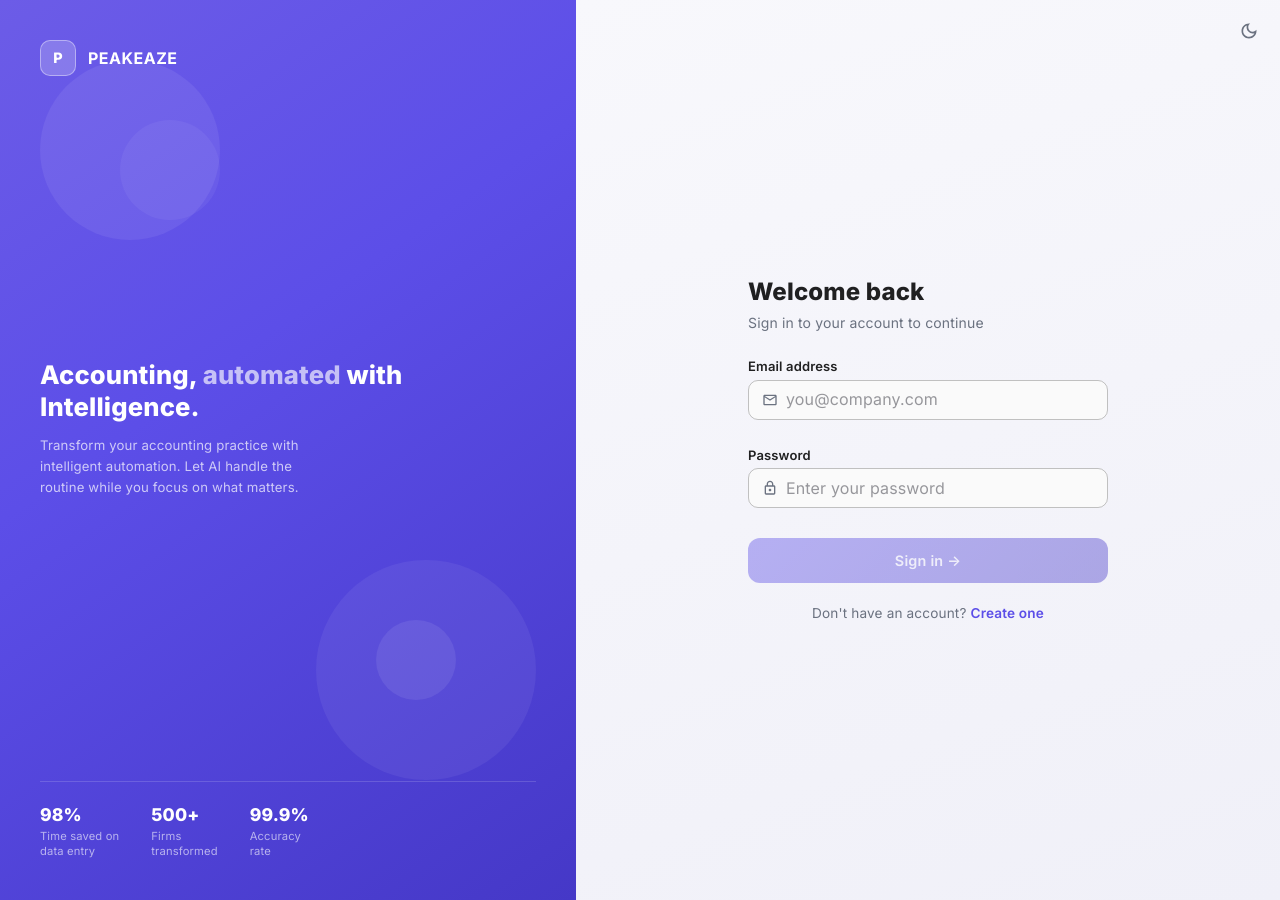
Test: LoginPage › shows email validation error when invalid email is typed
The width and height of the screenshot is (1280, 900).
Type "not-an-email" into the field with placeholder "you@company.com" at (947, 400), box [786,380,1108,420]
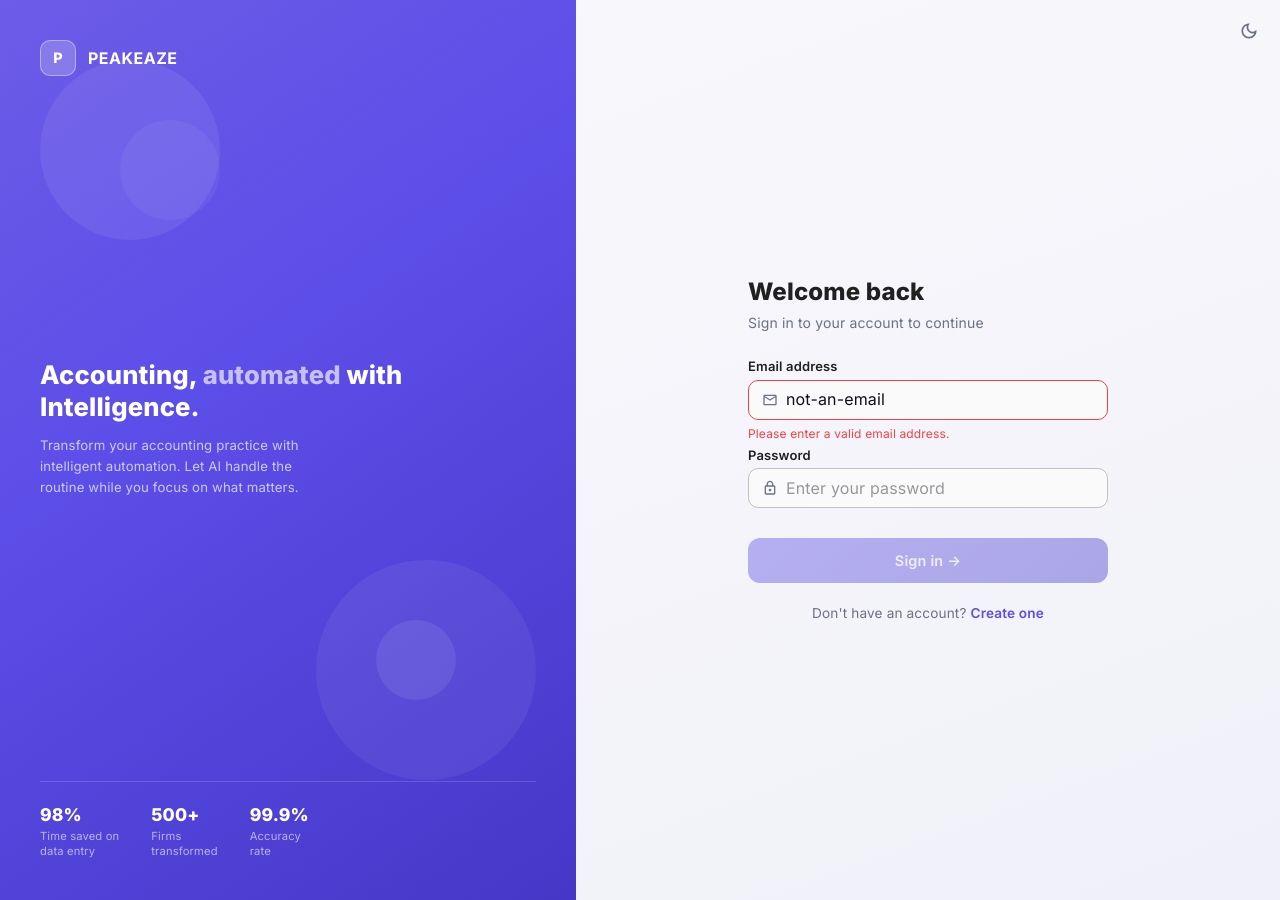
Now the text "Please enter a valid email address." is shown, box [748,426,950,441]
